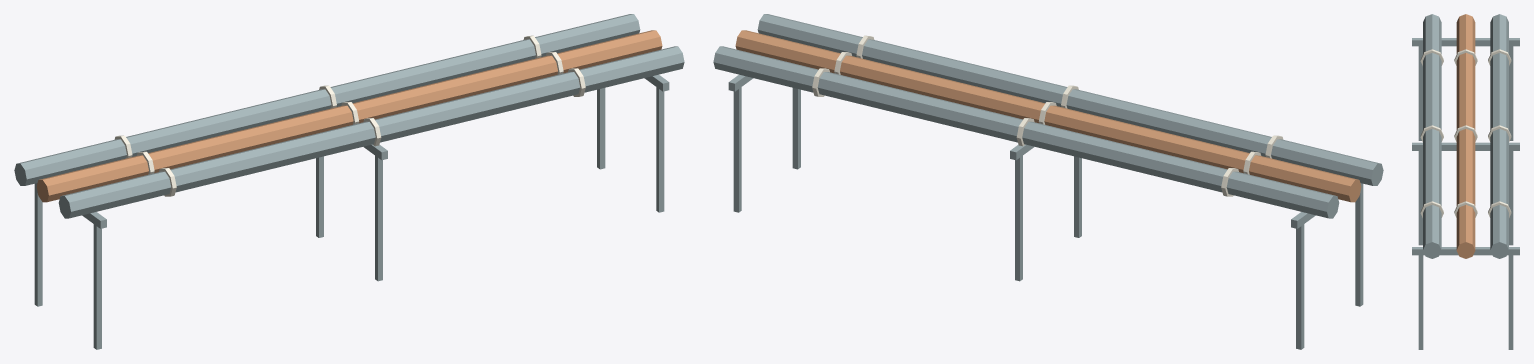
Rendered from pipe-rack.glb.
3 views of the same model, side by side, from view 1: azimuth 30°, elevation 25°; view 2: azimuth 150°, elevation 25°; view 3: azimuth 270°, elevation 25° (orthographic). The views are drawn at different scales.
Bounding box in the file's own units: 24 × 5.82 × 4.8.
